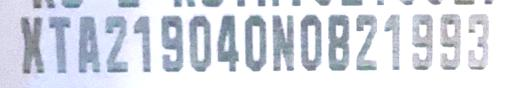letter: (100, 13, 134, 73), (17, 15, 47, 73), (352, 10, 380, 72), (268, 12, 296, 72), (324, 12, 352, 72), (75, 13, 103, 73), (158, 13, 186, 73), (297, 13, 325, 73), (186, 14, 214, 74), (46, 14, 74, 74), (214, 12, 240, 74), (408, 11, 434, 71), (242, 13, 268, 73), (466, 11, 490, 71), (438, 12, 462, 72), (130, 13, 154, 73), (382, 12, 402, 72)
